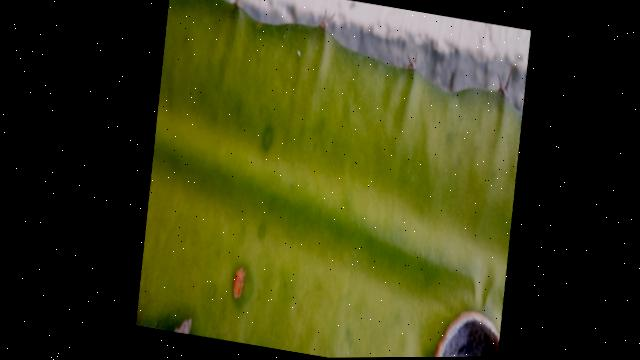stemcanker: (229, 264, 249, 306)
